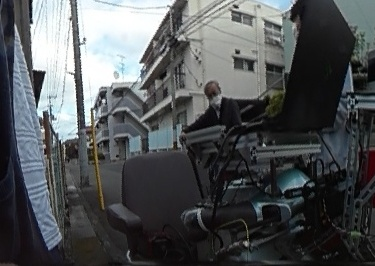person: (189, 82, 240, 135)
